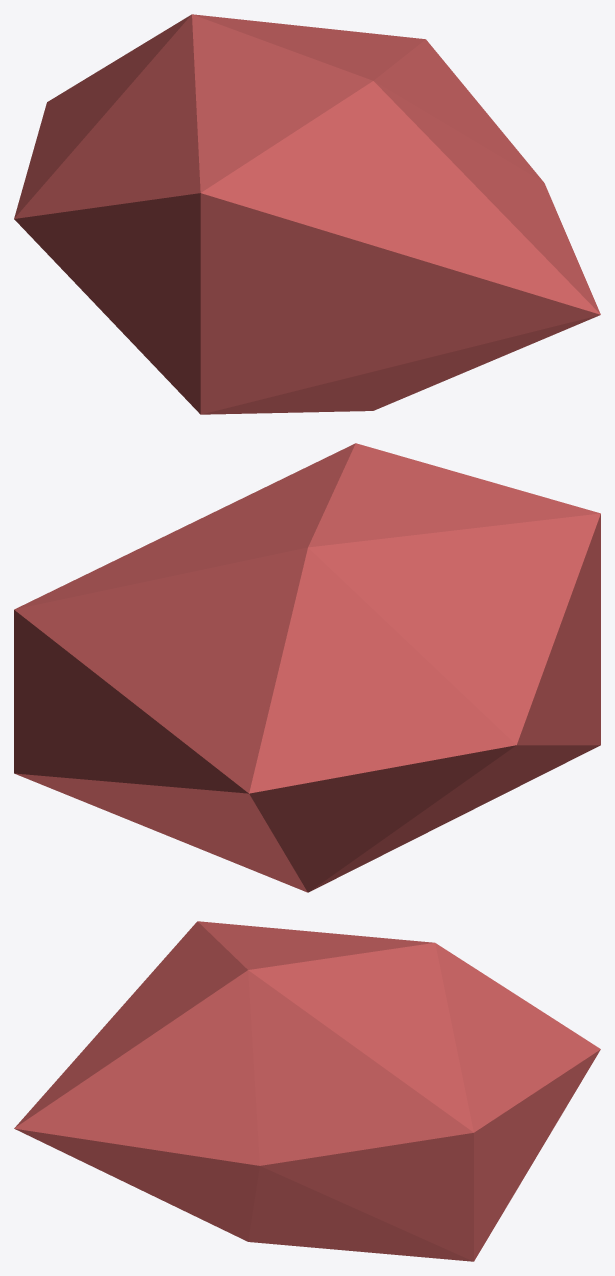
The model's file is heart.fbx.
3 views of the same model, one above another, from view 1: azimuth 30°, elevation 25°; view 2: azimuth 150°, elevation 25°; view 3: azimuth 270°, elevation 25° (orthographic). The views are drawn at different scales.
Parts seen in each view (by area): view 1: pPlatonic1; view 2: pPlatonic1; view 3: pPlatonic1.
Boxes of the visible parts, x1,y1,x2,y2 form: pPlatonic1: (14,14,600,414); pPlatonic1: (14,443,600,892); pPlatonic1: (14,921,600,1261).
Size of the model in its own units: 127 by 89.87 by 176.
